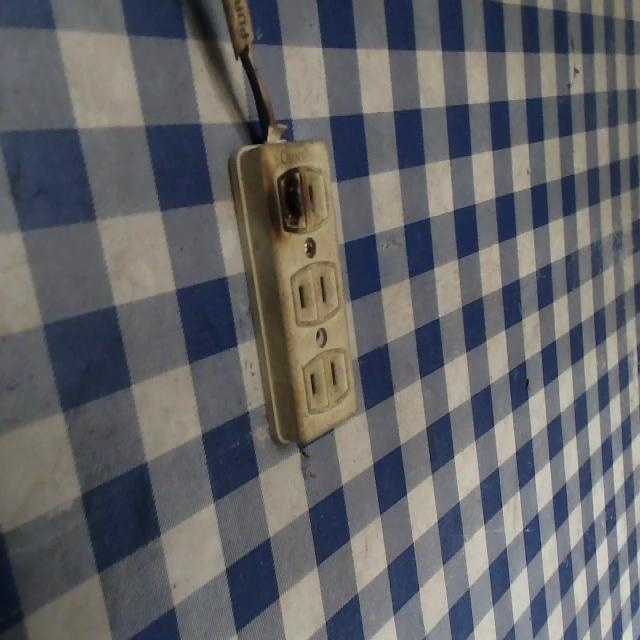-: (263, 157, 314, 243)
